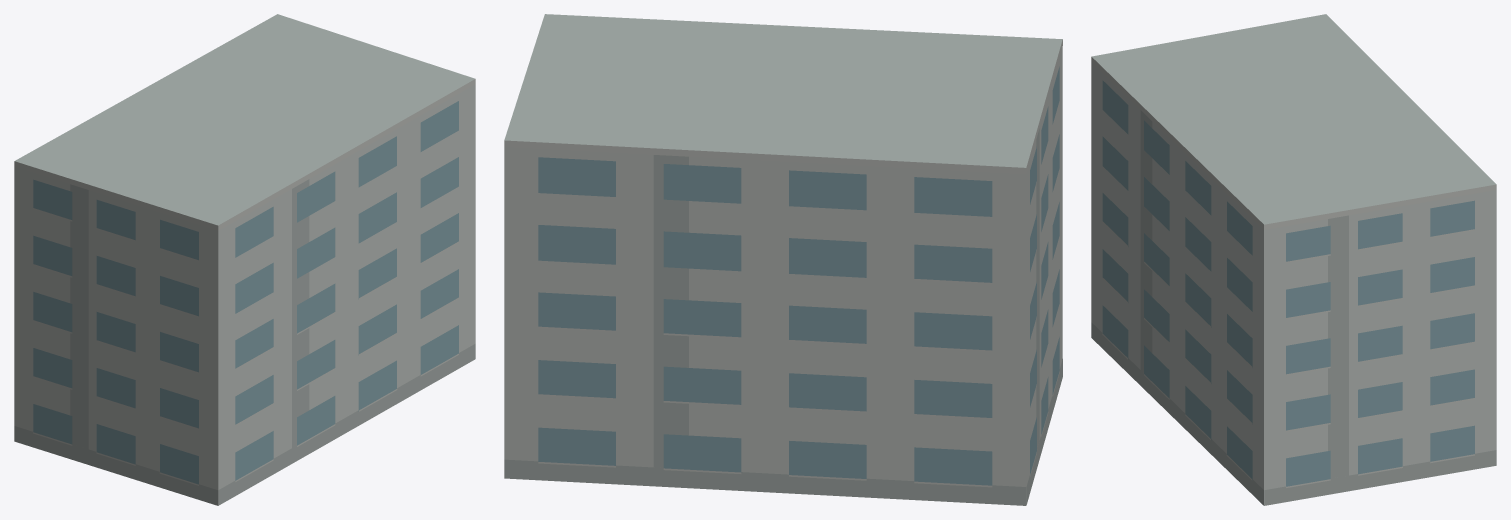
Rendered from survey-upis-32941613.glb.
3 views of the same model, side by side, from view 1: azimuth 30°, elevation 25°; view 2: azimuth 150°, elevation 25°; view 3: azimuth 270°, elevation 25° (orthographic). The views are drawn at different scales.
Parts seen in each view (by area): view 1: survey-upis-32941613.tmp; view 2: survey-upis-32941613.tmp; view 3: survey-upis-32941613.tmp.
Part boxes in pixels (x1,y1,x2,y2): survey-upis-32941613.tmp: [14, 14, 475, 505]; survey-upis-32941613.tmp: [504, 14, 1062, 505]; survey-upis-32941613.tmp: [1091, 14, 1496, 505].
Size of the model in its own units: 20.25 by 12.6 by 16.46.
